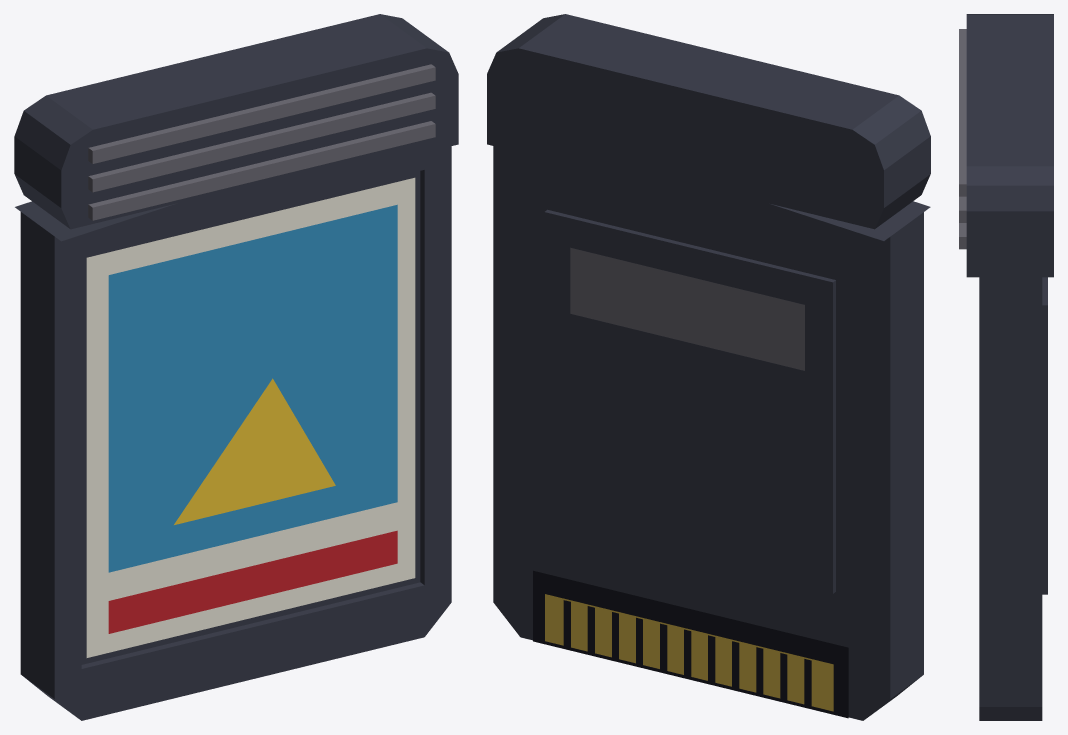
File: wswan.obj
3 views of the same model, side by side, from view 1: azimuth 30°, elevation 25°; view 2: azimuth 150°, elevation 25°; view 3: azimuth 270°, elevation 25° (orthographic). The views are drawn at different scales.
Parts seen in each view (by area): view 1: wswan; view 2: wswan; view 3: wswan.
Part boxes in pixels (left/top/right/bottom): wswan: left=14, top=14, right=458, bottom=720; wswan: left=487, top=14, right=930, bottom=720; wswan: left=959, top=14, right=1053, bottom=720.
Size of the model in its own units: 4.4 by 6.3 by 0.98.
